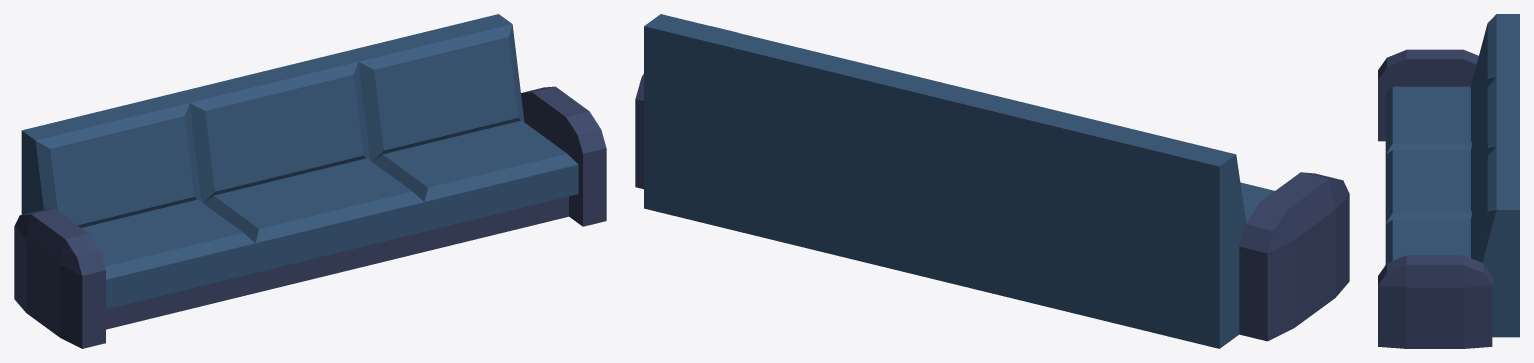
Rendered from g_o_Sofa3.fbx.
The picture shows the model from 3 angles, left to right: view 1: azimuth 30°, elevation 25°; view 2: azimuth 150°, elevation 25°; view 3: azimuth 270°, elevation 25°; orthographic projection. The views are drawn at different scales.
Parts seen in each view (by area): view 1: g_o_3SeatSofa; view 2: g_o_3SeatSofa; view 3: g_o_3SeatSofa.
Boxes of the visible parts, x1,y1,x2,y2 form: g_o_3SeatSofa: (14,14,606,348); g_o_3SeatSofa: (635,14,1349,348); g_o_3SeatSofa: (1378,14,1519,348).
Bounding box in the file's own units: 278 × 75.25 × 75.97.
